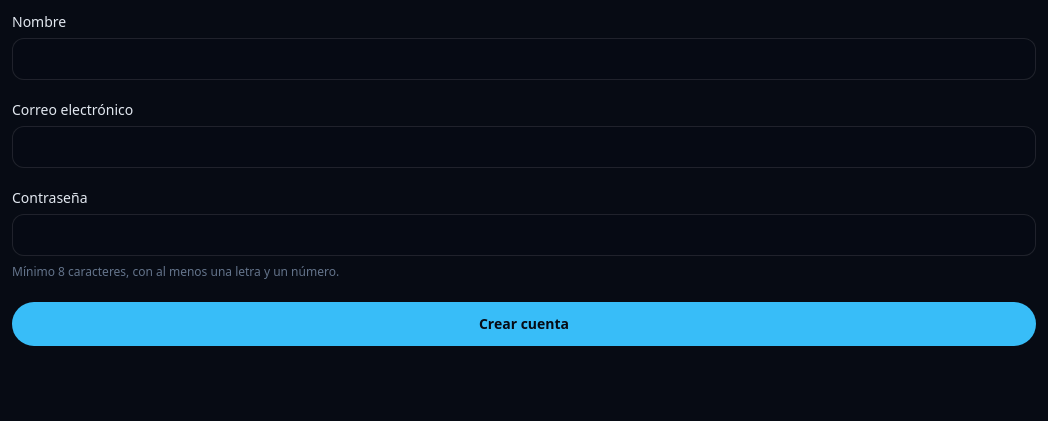
Test: RegisterForm › explica que el correo ya está registrado
Type "Ana" into the field labelled "Nombre" at (524,59), box [12, 38, 1036, 80]
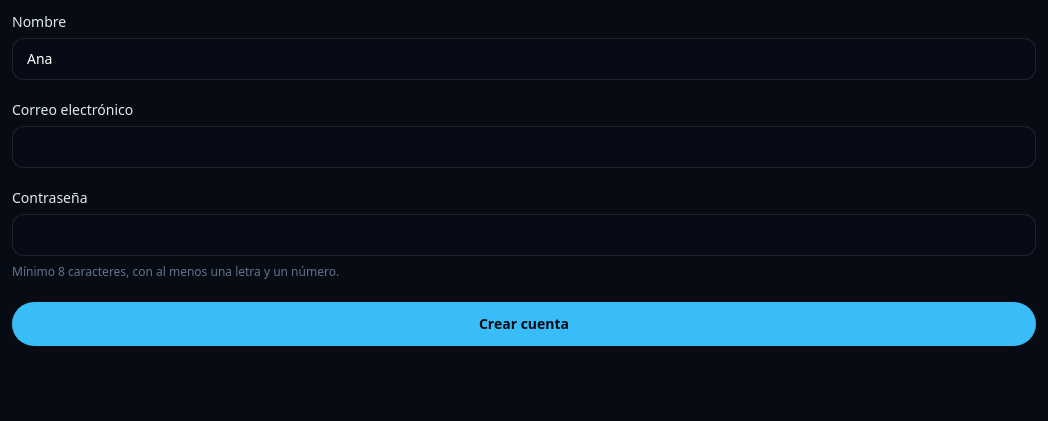
Type "ana@example.com" into the field labelled "Correo electrónico" at (524,147), box [12, 126, 1036, 168]
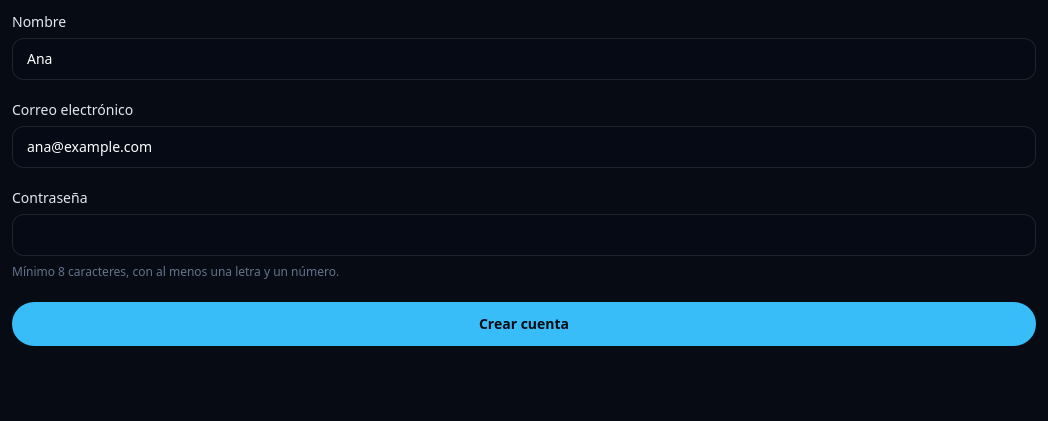
Type "S3gura!pass" into the password field labelled "Contraseña" at (524,235), box [12, 214, 1036, 256]
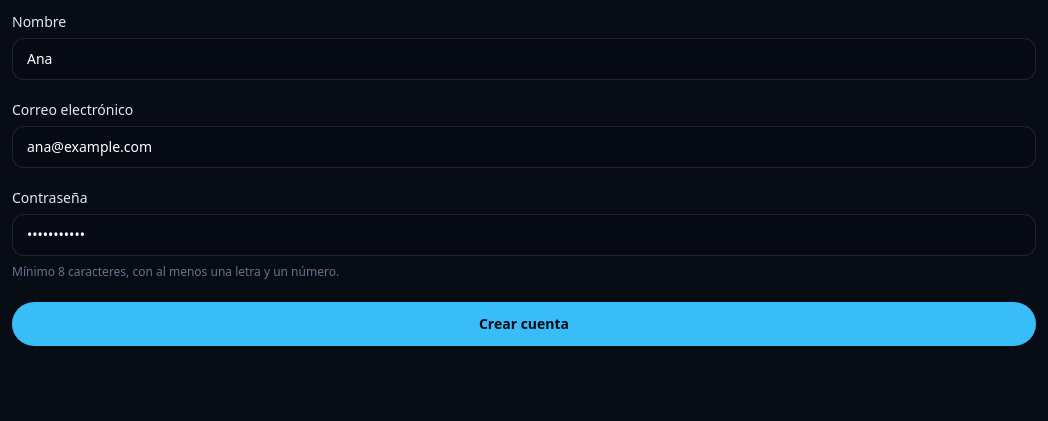
Click the button "Crear cuenta" at (524,324), box [12, 302, 1036, 346]
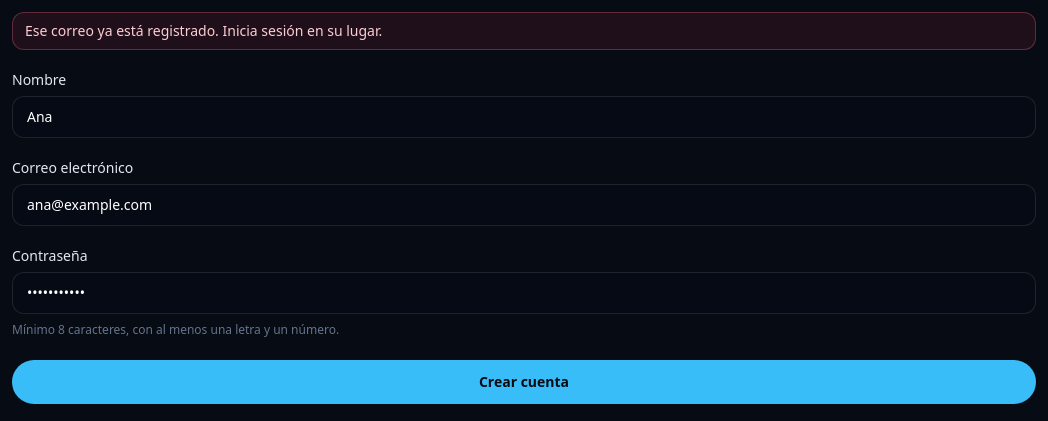
Now the message reads "Ese correo ya está registrado. Inicia sesión en su lugar.", box [25, 21, 382, 40]
